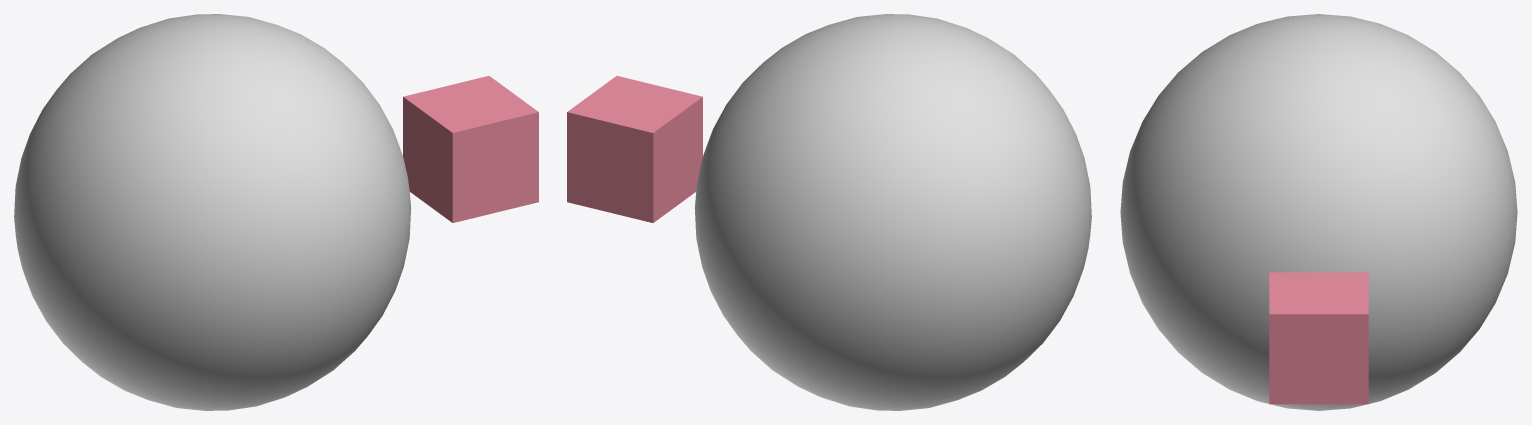
File: refraction.glb
3 renders of one model, left to right at view 1: azimuth 30°, elevation 25°; view 2: azimuth 150°, elevation 25°; view 3: azimuth 270°, elevation 25°, orthographic.
Parts seen in each view (by area): view 1: Icosphere, Cube; view 2: Icosphere, Cube; view 3: Icosphere, Cube.
Part boxes in pixels (x1,y1,x2,y2): Icosphere: (14, 14, 411, 410); Cube: (403, 76, 538, 222); Icosphere: (694, 14, 1091, 410); Cube: (567, 76, 702, 222); Icosphere: (1120, 14, 1517, 410); Cube: (1269, 272, 1368, 404).
Size of the model in its own units: 2.75 by 2 by 2.
